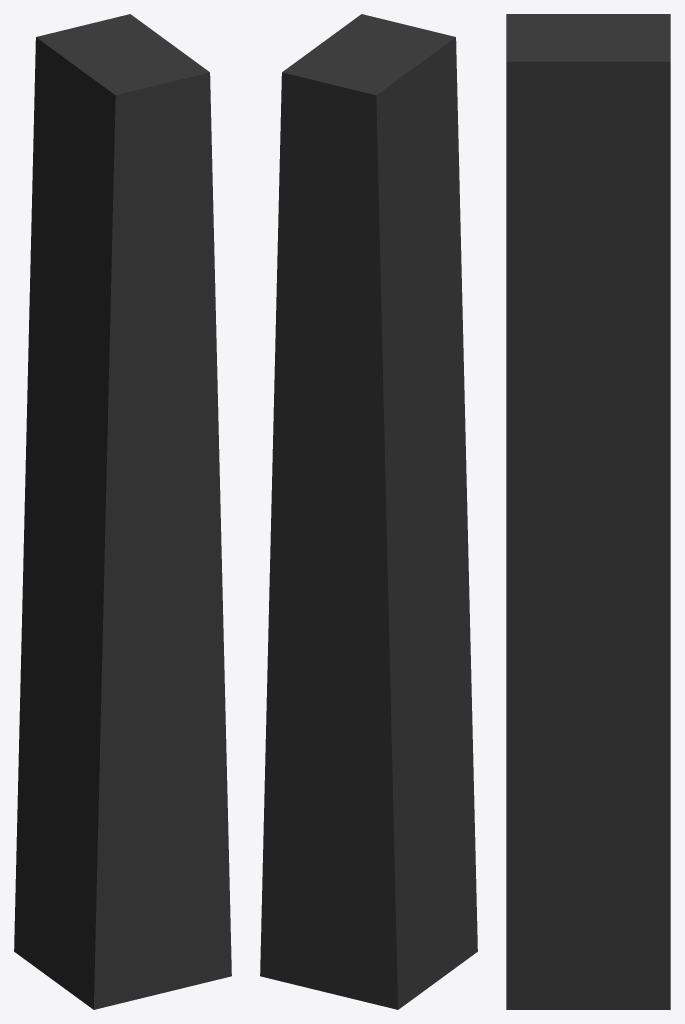
File: Clock1_C1_03.fbx
3 views of the same model, side by side, from view 1: azimuth 30°, elevation 25°; view 2: azimuth 150°, elevation 25°; view 3: azimuth 270°, elevation 25° (orthographic). The views are drawn at different scales.
Parts seen in each view (by area): view 1: Clock1_C1_03; view 2: Clock1_C1_03; view 3: Clock1_C1_03.
Boxes of the visible parts, <box> form: Clock1_C1_03: <box>14,14,231,1009</box>; Clock1_C1_03: <box>260,14,477,1009</box>; Clock1_C1_03: <box>506,14,670,1009</box>.
Bounding box in the file's own units: 0.7428 × 4.67 × 0.7428.
